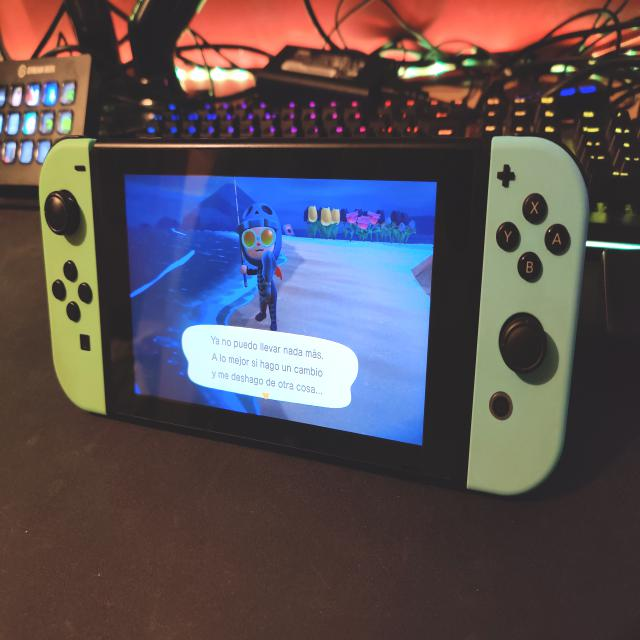text_bubble: (181, 323, 362, 414)
